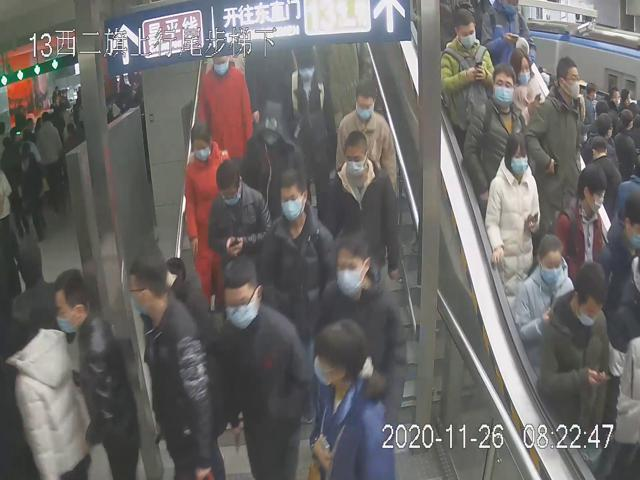person: (217, 252, 309, 479), (308, 231, 408, 438), (326, 131, 401, 280), (258, 164, 333, 308), (182, 119, 236, 310), (484, 136, 540, 314), (527, 57, 582, 237), (463, 61, 527, 205), (239, 97, 307, 222), (205, 158, 270, 284), (333, 76, 398, 195), (439, 6, 493, 134), (196, 47, 255, 160), (281, 42, 335, 156)
